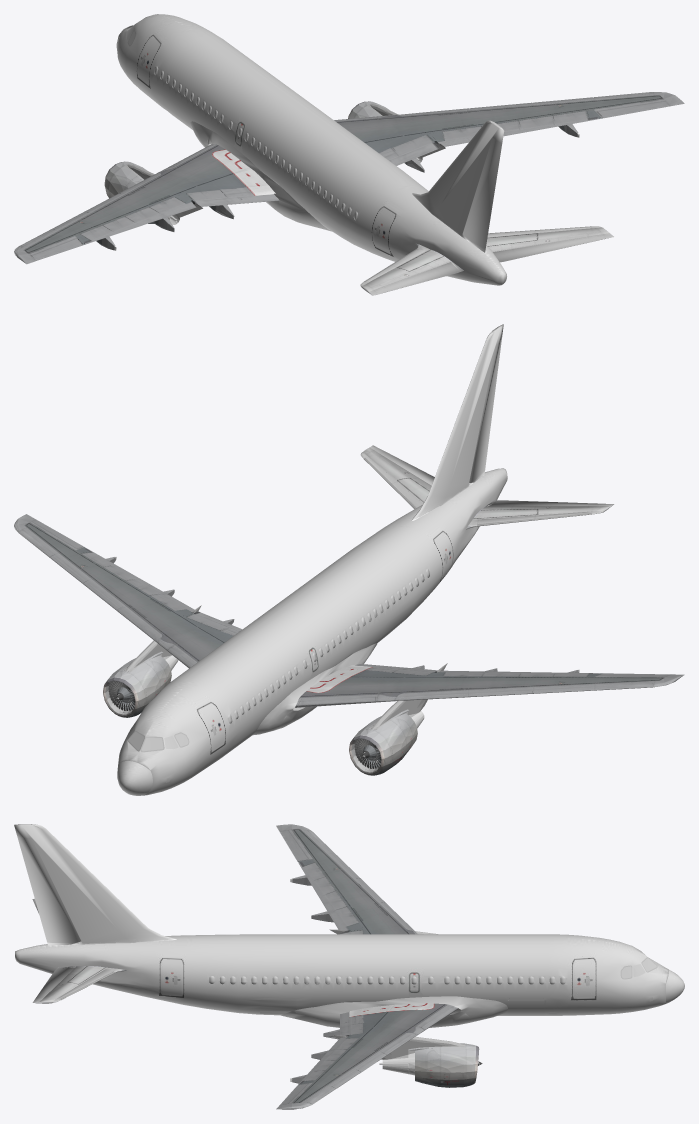
The picture shows the model from 3 angles, top to bottom: view 1: azimuth 30°, elevation 25°; view 2: azimuth 150°, elevation 25°; view 3: azimuth 270°, elevation 25°; orthographic projection. The views are drawn at different scales.
Visible parts, largest first — view 1: Fuselage, Wings, Vstab, Hstabs, Rudder, Belly, Windows, ElevatorR, ElevatorL, FlapL1, FlapR2, FlapL2 (+7 smaller); view 2: Fuselage, Wings, Vstab, Hstabs, Belly, Rudder, Windows, Nose, Intake, Intake_001, Nacelle, CockpitWindows (+3 smaller); view 3: Fuselage, Wings, Vstab, Belly, Rudder, Windows, Hstabs, Nacelle_001, EngineR, DoorR1, DoorR3, Pylon_001 (+6 smaller).
Boxes of the visible parts, box(x1,y1,x2,y2) form: Fuselage: box(117, 14, 506, 285); Wings: box(19, 92, 666, 256); Vstab: box(412, 120, 504, 241); Hstabs: box(360, 226, 609, 292); Rudder: box(462, 138, 502, 252); Belly: box(190, 121, 331, 231); Windows: box(154, 66, 357, 220); ElevatorR: box(493, 233, 613, 262); ElevatorL: box(368, 261, 463, 295); FlapL1: box(191, 193, 278, 206); FlapR2: box(434, 117, 600, 146); FlapL2: box(84, 201, 196, 244); Fuselage: box(117, 468, 507, 795); Wings: box(18, 521, 666, 707); Vstab: box(411, 324, 503, 520); Hstabs: box(360, 447, 610, 529); Belly: box(253, 643, 376, 735); Rudder: box(469, 340, 501, 482); Windows: box(228, 568, 429, 723); Nose: box(117, 761, 152, 795); Intake: box(349, 728, 392, 775); Intake_001: box(103, 670, 146, 717); Nacelle: box(360, 718, 407, 771); CockpitWindows: box(127, 723, 188, 751); Fuselage: box(15, 934, 668, 1015); Wings: box(287, 829, 458, 1104); Vstab: box(14, 824, 176, 944); Belly: box(295, 996, 507, 1027); Rudder: box(17, 837, 81, 945); Windows: box(209, 976, 565, 984); Hstabs: box(39, 966, 126, 1003); Nacelle_001: box(438, 1043, 464, 1087); EngineR: box(408, 1046, 438, 1086); DoorR1: box(574, 955, 594, 998); DoorR3: box(162, 955, 182, 996); Pylon_001: box(332, 1035, 465, 1059).
Size of the model in its own units: 33.91 by 11.64 by 33.89.
Materials: 27 (6 with a texture image).
